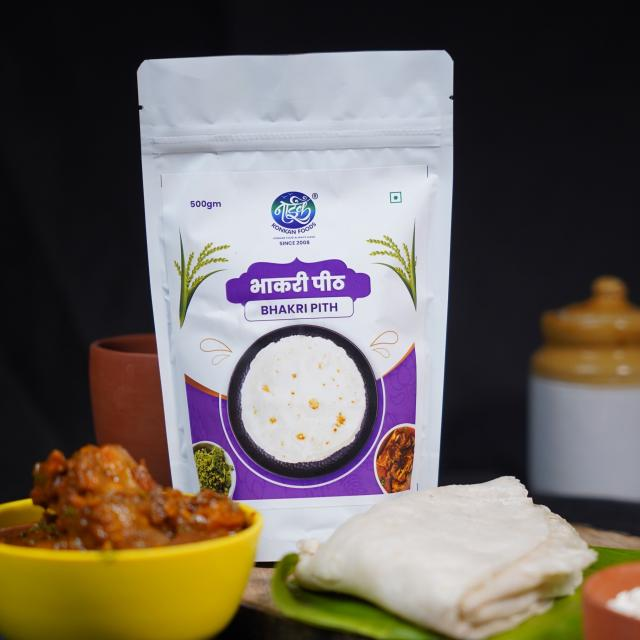RICE BHAKRI: (296, 476, 596, 637)
